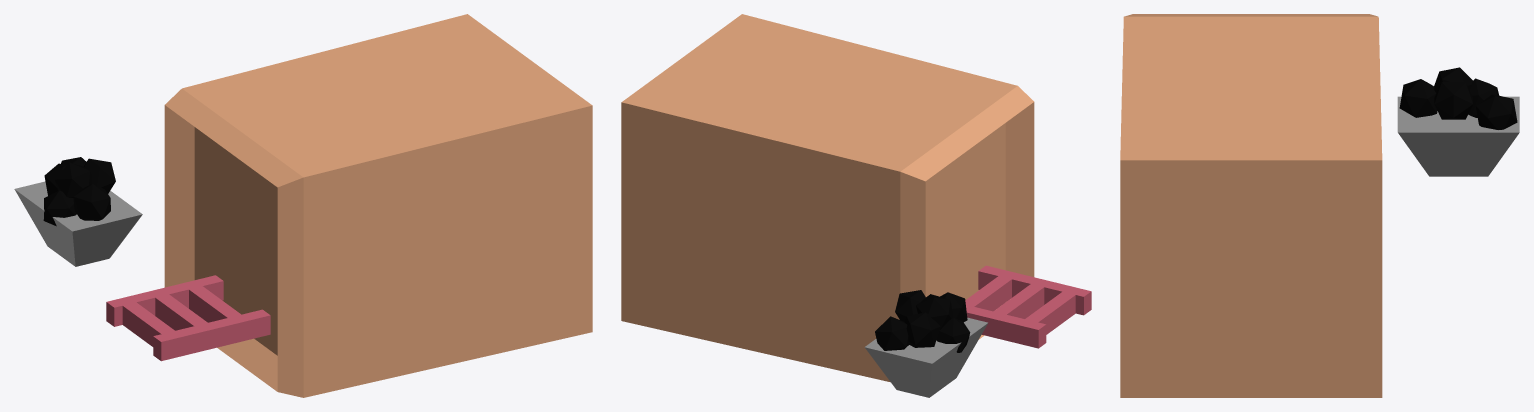
The model's file is building_coalmine.fbx.
3 views of the same model, side by side, from view 1: azimuth 30°, elevation 25°; view 2: azimuth 150°, elevation 25°; view 3: azimuth 270°, elevation 25° (orthographic). The views are drawn at different scales.
Parts seen in each view (by area): view 1: coal; view 2: coal; view 3: coal.
Boxes of the visible parts, box(x1,y1,x2,y2) form: coal: box(14, 14, 592, 397); coal: box(621, 14, 1091, 397); coal: box(1120, 14, 1519, 397).
Bounding box in the file's own units: 43.14 × 23.54 × 35.89.
